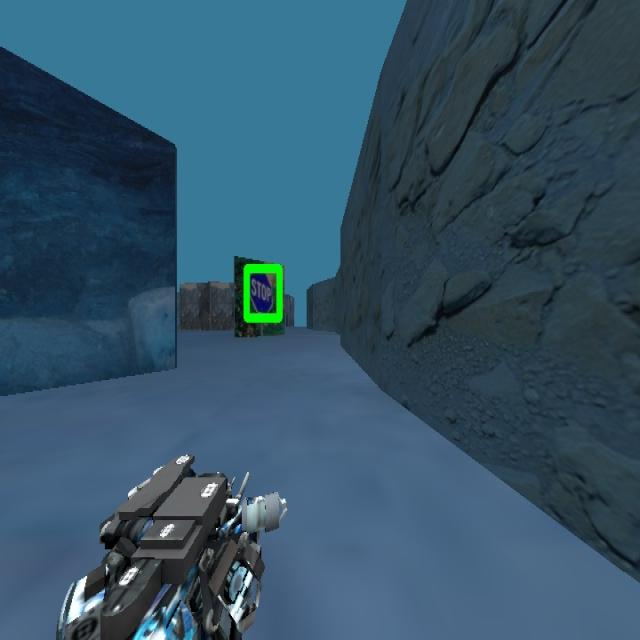Diamon: (242, 261, 284, 324)
